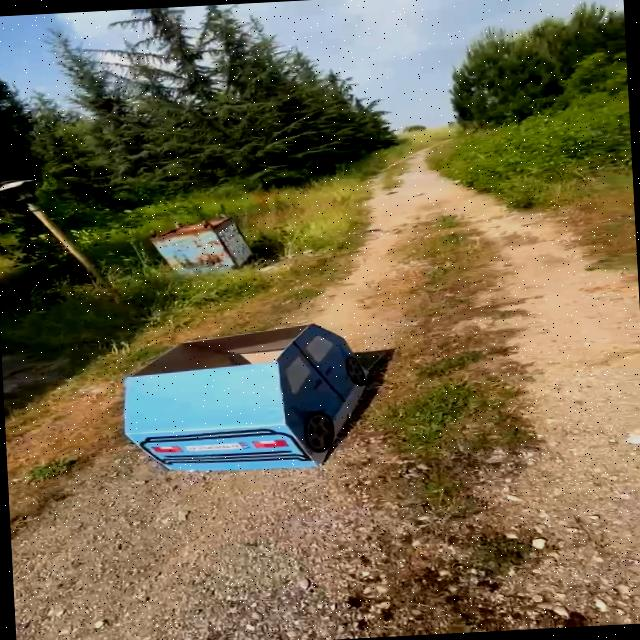blue_car: (104, 298, 407, 491)
